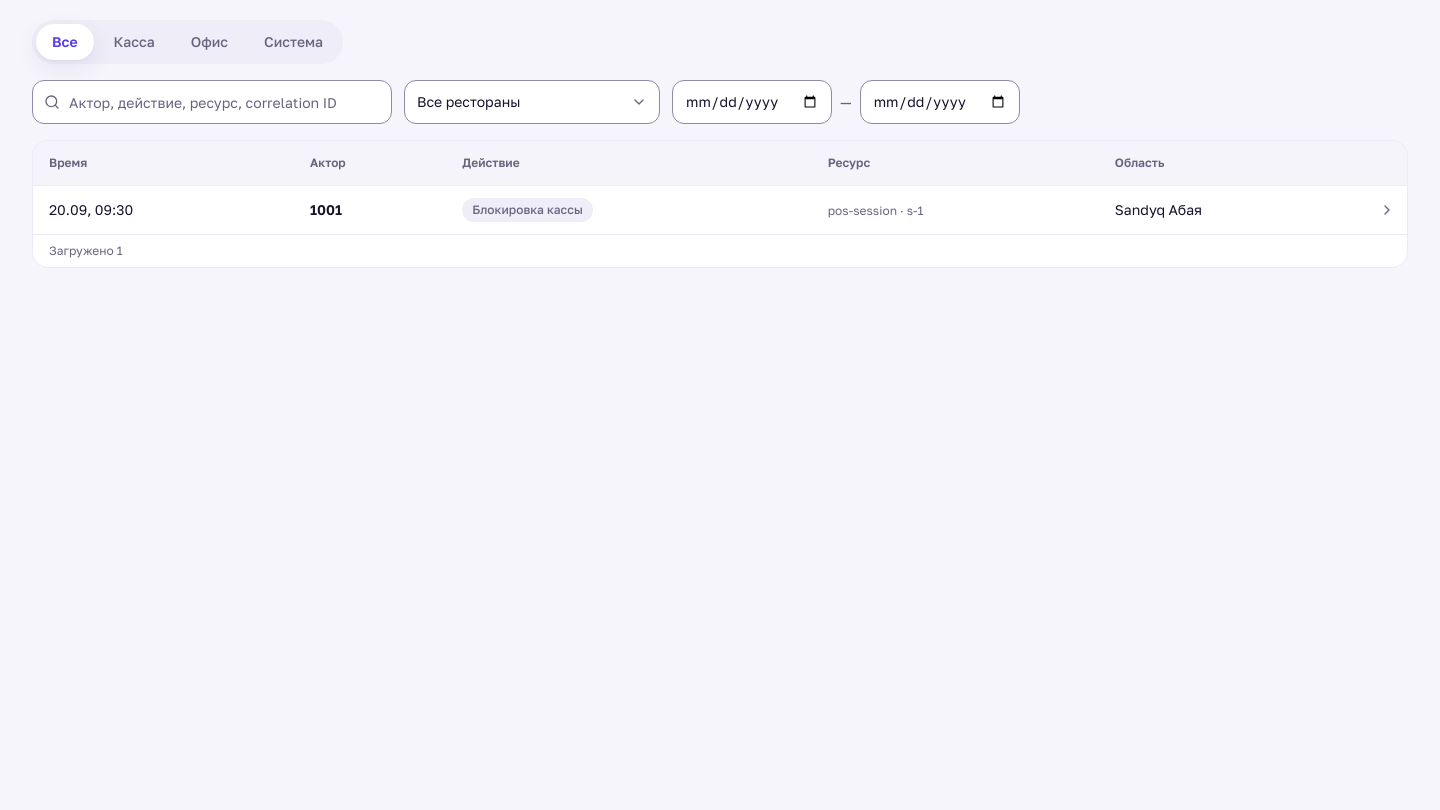
«Журнал событий» (W1-ADM-04) › the details panel masks secrets
Click the text "1001" at (326,209), box top-left (310, 200), bottom-right (342, 218)
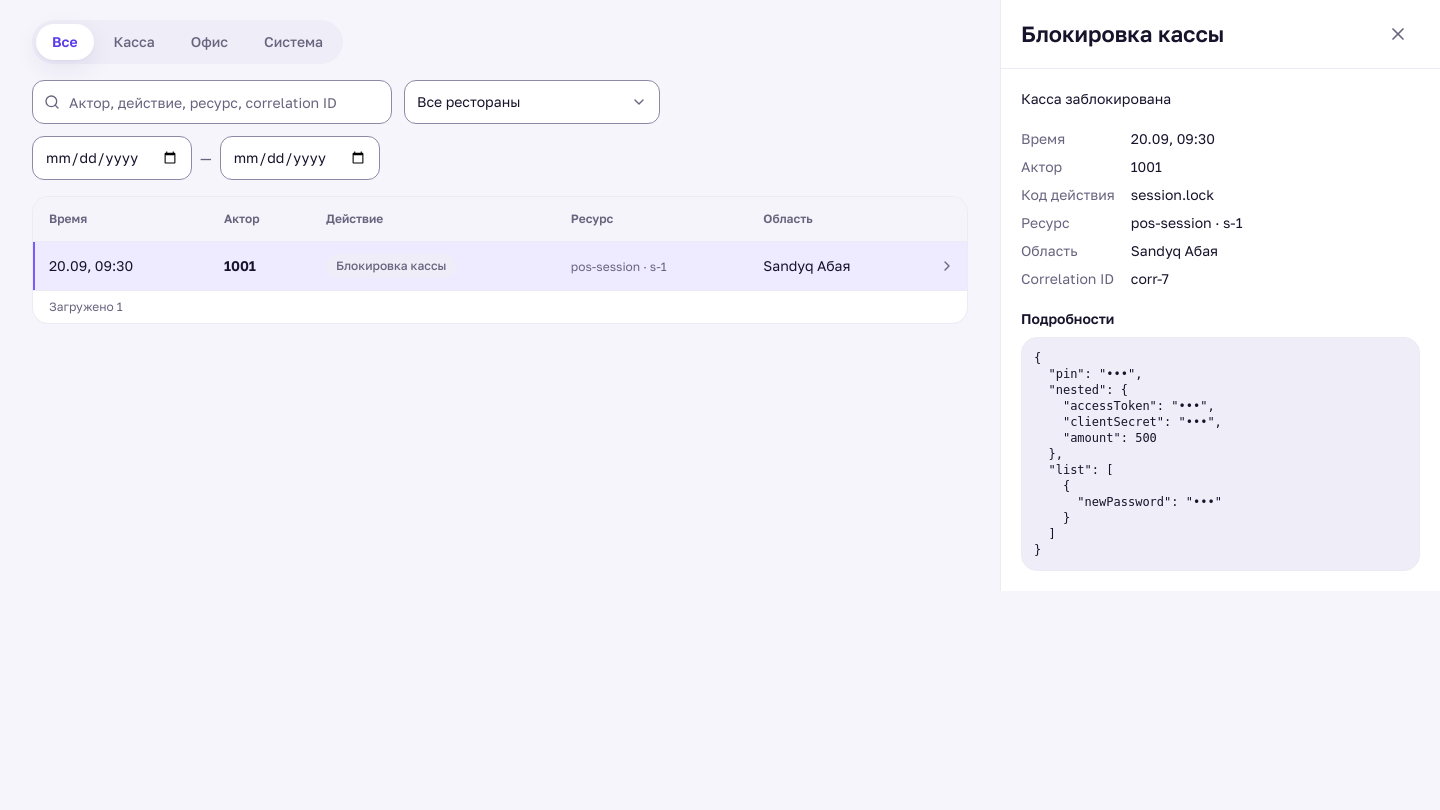
Now the element "Подробности" shows "\"pin\": \"•••\"", box top-left (1034, 351), bottom-right (1222, 557)
Now the element "Подробности" shows "\"accessToken\": \"•••\"", box top-left (1034, 351), bottom-right (1222, 557)
Now the element "Подробности" shows "\"amount\": 500", box top-left (1034, 351), bottom-right (1222, 557)
